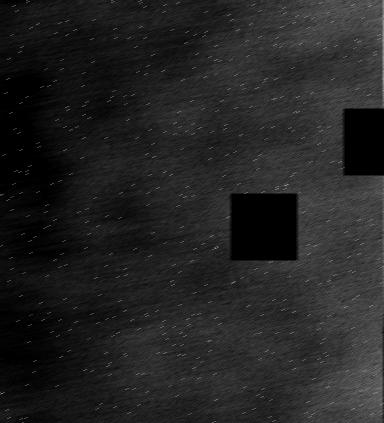Airbag: (0, 0, 384, 423), (383, 0, 384, 423)
